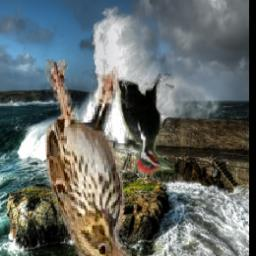Sparrow: (45, 59, 132, 256)
Woodpecker: (117, 74, 174, 180)
